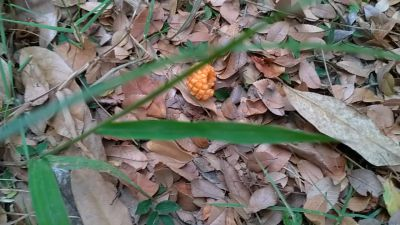eggs: (182, 58, 218, 101)
